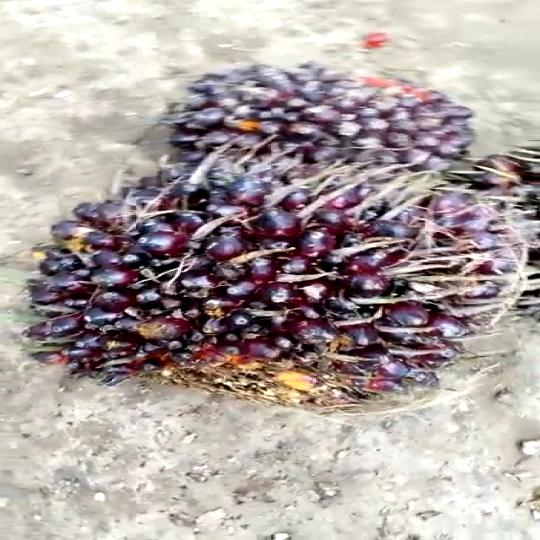kurang masak: (10, 149, 540, 427), (145, 56, 469, 193)
